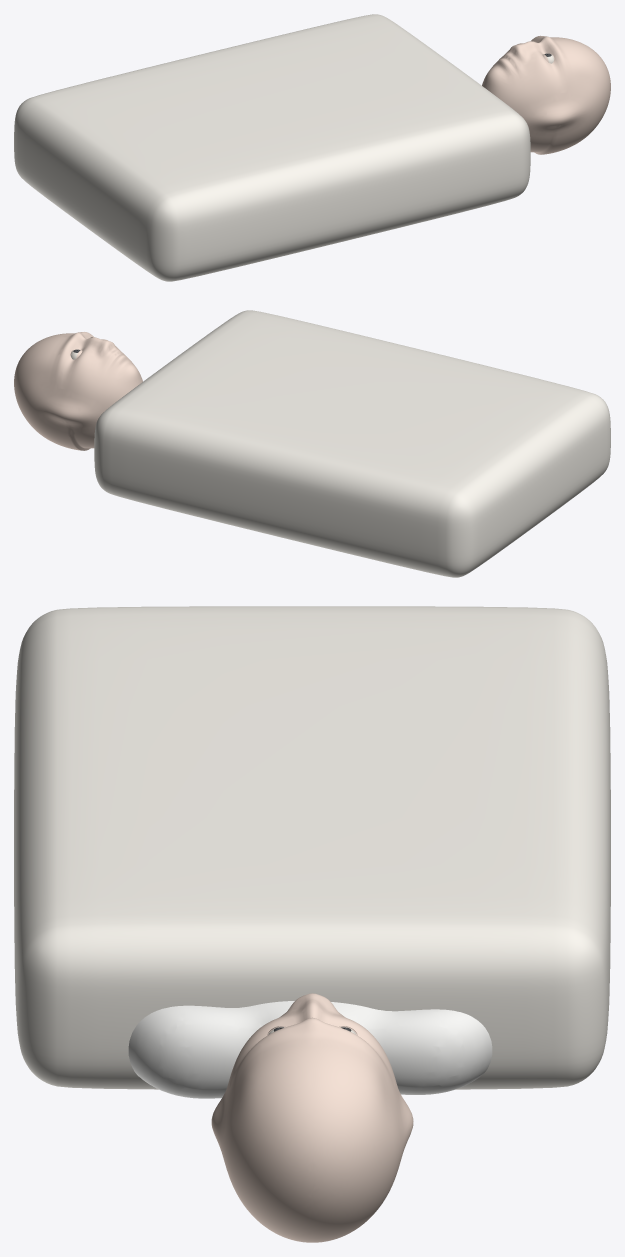
The model's file is Figure_Baby_Lying.fbx.
3 renders of one model, top to bottom at view 1: azimuth 30°, elevation 25°; view 2: azimuth 150°, elevation 25°; view 3: azimuth 270°, elevation 25°, orthographic. The views are drawn at different scales.
Parts seen in each view (by area): view 1: Prop, Head; view 2: Prop, Head; view 3: Prop, Head, Clothes.
Part boxes in pixels (bbox=[...]): Prop: bbox=[14, 14, 530, 281]; Head: bbox=[482, 35, 610, 154]; Prop: bbox=[94, 310, 610, 577]; Head: bbox=[14, 332, 142, 450]; Prop: bbox=[14, 606, 610, 1089]; Head: bbox=[211, 993, 413, 1242]; Clothes: bbox=[128, 1001, 492, 1098].
Size of the model in its own units: 0.676 by 0.1413 by 0.3529.
